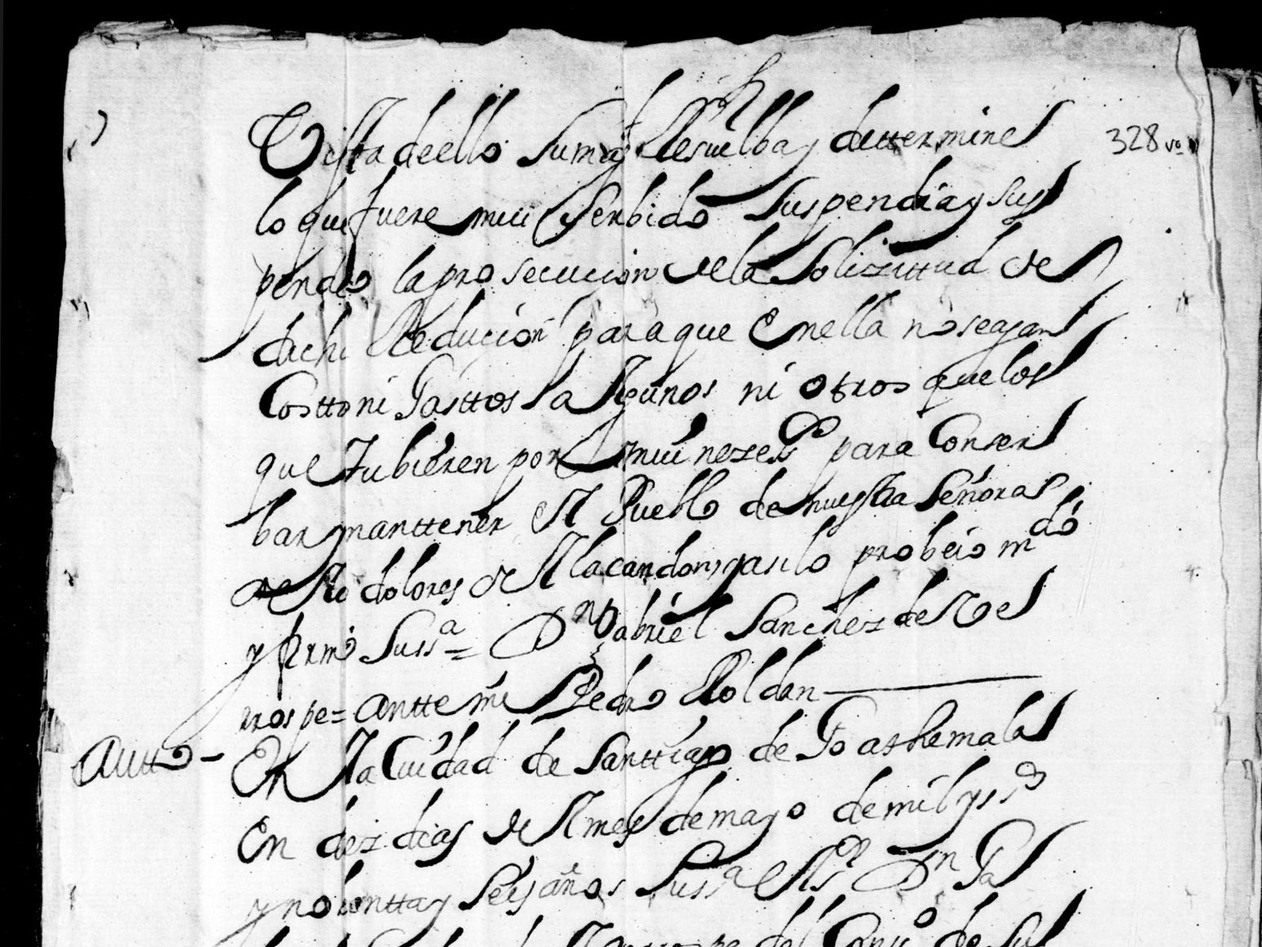lacandon: (569, 525, 709, 578)
